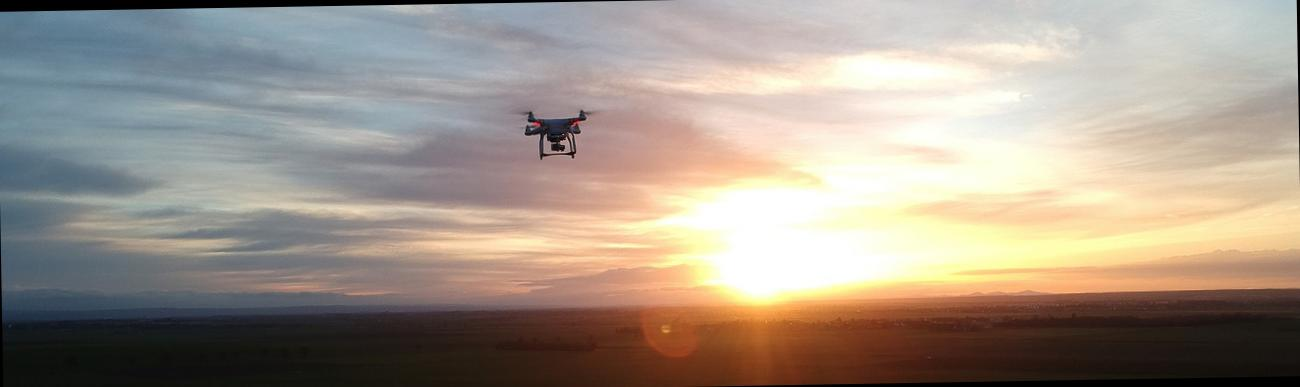drone: (501, 83, 613, 177)
